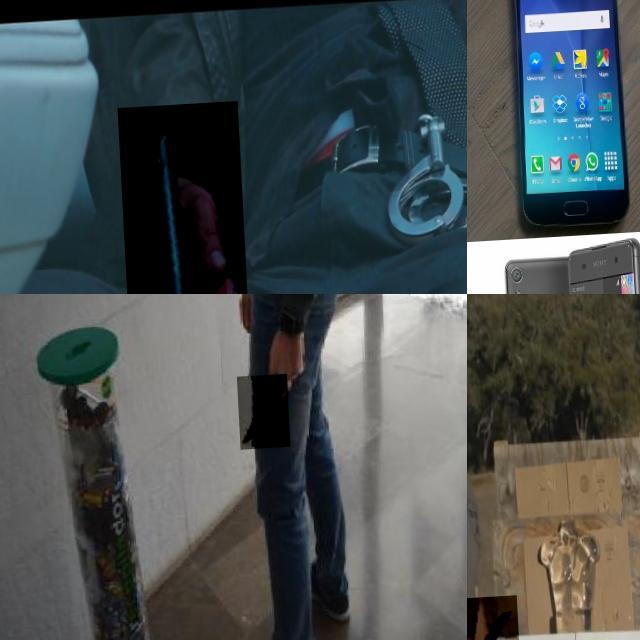-: (233, 378, 286, 453), (467, 599, 516, 640)
gun-knife-thesis - v11 Yolov5 augmented: (115, 105, 251, 294)
